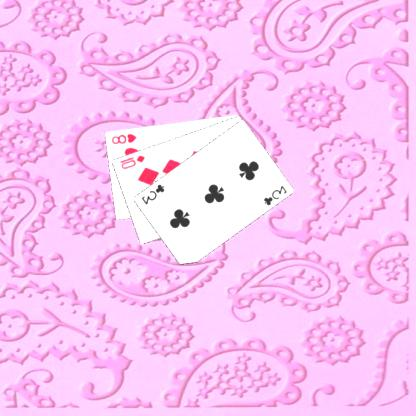10D: (118, 152, 147, 171)
3C: (262, 182, 290, 206), (140, 182, 167, 206)
8H: (110, 131, 140, 145)
